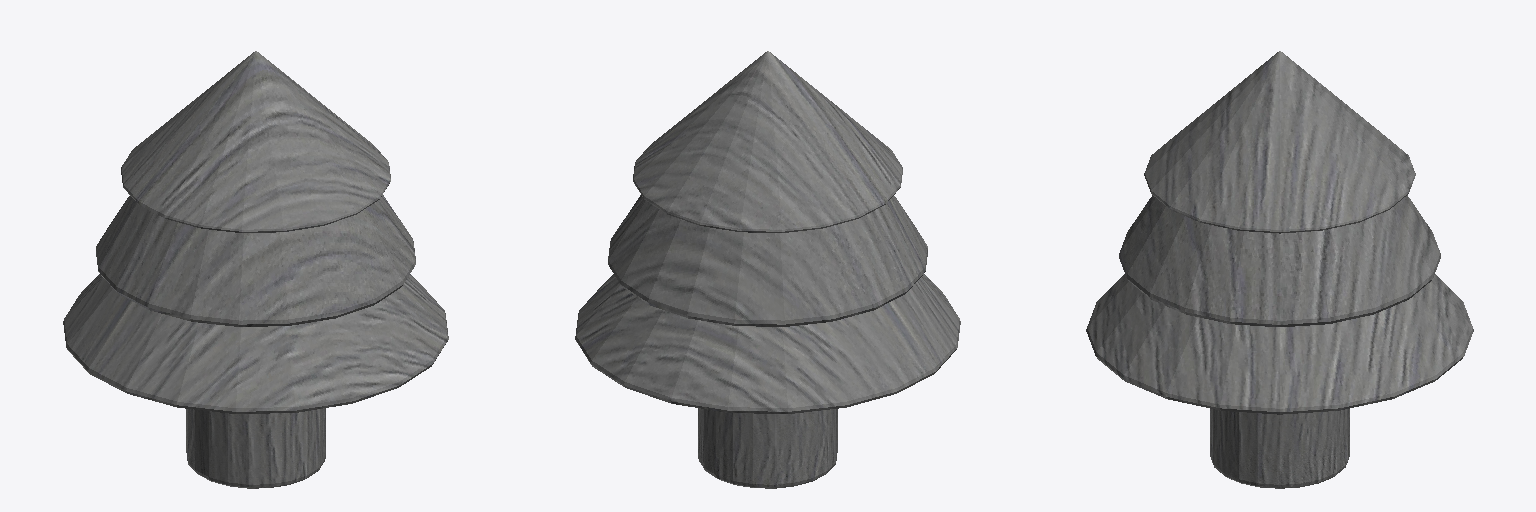
3 views of the same model, side by side, from view 1: azimuth 30°, elevation 25°; view 2: azimuth 150°, elevation 25°; view 3: azimuth 270°, elevation 25° (orthographic).
Parts seen in each view (by area): view 1: pCone3; view 2: pCone3; view 3: pCone3.
Part boxes in pixels (x1,y1,x2,y2): pCone3: (63,51,448,488); pCone3: (575,51,960,488); pCone3: (1086,51,1473,488).
Size of the model in its own units: 277 by 324 by 277.
Materials: 3 (1 with a texture image).